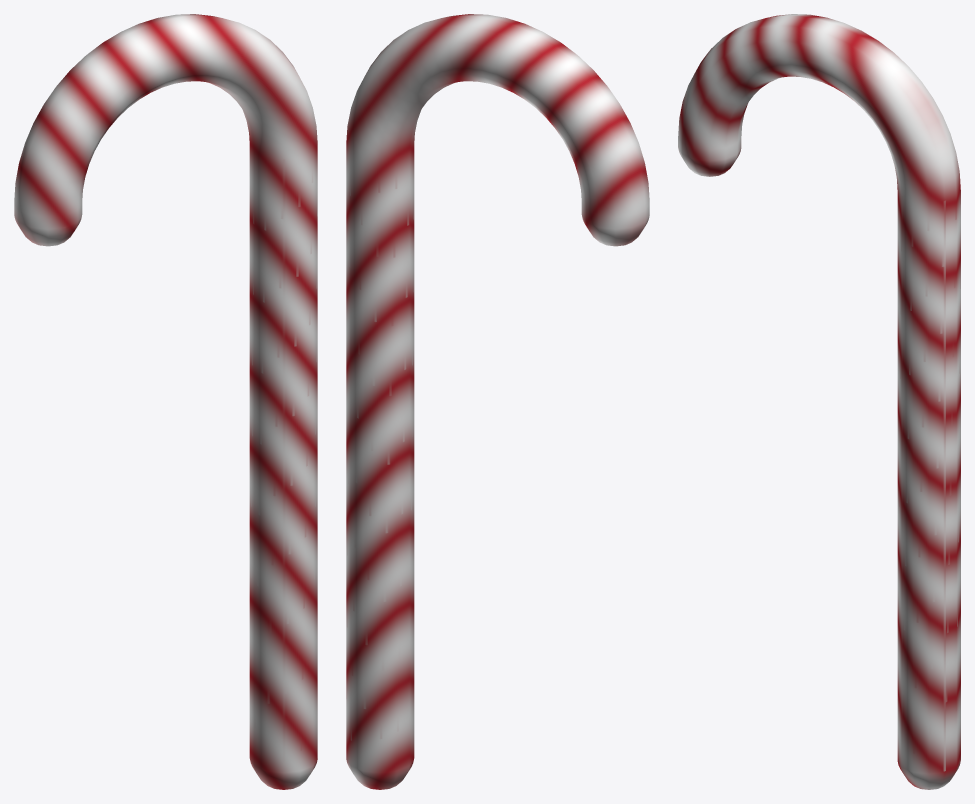
3 views of the same model, side by side, from view 1: azimuth 30°, elevation 25°; view 2: azimuth 150°, elevation 25°; view 3: azimuth 330°, elevation 25° (orthographic). The views are drawn at different scales.
Parts seen in each view (by area): view 1: caramel_nadal_0; view 2: caramel_nadal_0; view 3: caramel_nadal_0.
Boxes of the visible parts, <box> form: caramel_nadal_0: <box>14,14,317,789</box>; caramel_nadal_0: <box>346,14,649,789</box>; caramel_nadal_0: <box>678,14,960,789</box>.
Size of the model in its own units: 0.1273 by 0.3297 by 0.0255.
Materials: 1 (1 with a texture image).
